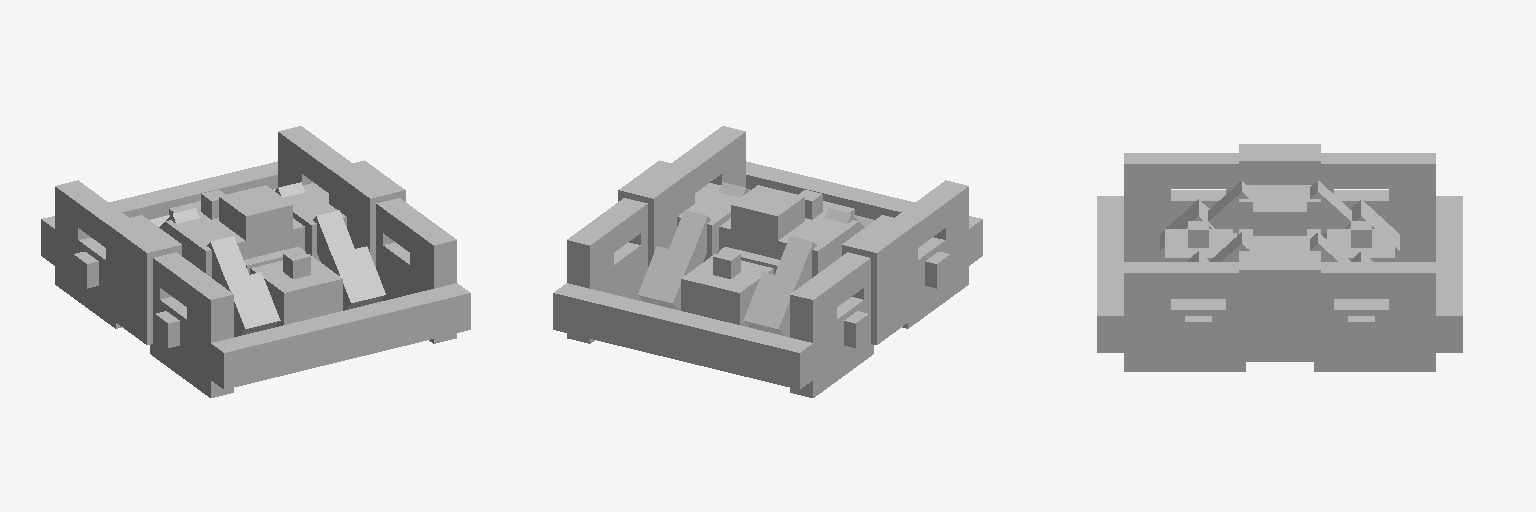
File: frame.obj
3 views of the same model, side by side, from view 1: azimuth 30°, elevation 25°; view 2: azimuth 150°, elevation 25°; view 3: azimuth 270°, elevation 25° (orthographic).
Parts seen in each view (by area): view 1: cube_19, cube_37, cube_28, cube_21, cube_1, cube_38, cube_34, cube_24, cube_7, cube_30, cube_25, cube_33 (+13 smaller); view 2: cube_28, cube_37, cube_19, cube_21, cube_8, cube_30, cube_33, cube_25, cube_7, cube_38, cube_24, cube_34 (+13 smaller); view 3: cube_21, cube_20, cube_41, cube_19, cube_28, cube_24, cube_25, cube_33, cube_34, cube_30, cube_38, cube_37 (+19 smaller).
Part boxes in pixels (x1,y1,x2,y2): cube_19: (211,283,470,389); cube_37: (106,215,181,344); cube_28: (41,161,277,265); cube_21: (330,160,405,266); cube_1: (250,254,342,327); cube_38: (150,295,233,397); cube_34: (153,252,233,324); cube_24: (376,198,456,269); cube_7: (219,185,292,240); cube_30: (55,223,121,328); cube_25: (278,126,351,193); cube_33: (55,180,128,247); cube_28: (553,283,812,389); cube_37: (842,215,917,344); cube_19: (746,161,982,265); cube_21: (618,160,693,266); cube_8: (681,254,773,327); cube_30: (790,295,873,397); cube_33: (790,252,870,324); cube_25: (567,198,647,269); cube_7: (731,185,804,240); cube_38: (902,223,968,328); cube_24: (672,126,745,193); cube_34: (895,180,968,247); cube_21: (1239,253,1320,361); cube_20: (1124,299,1245,371); cube_41: (1314,299,1435,371); cube_19: (1097,196,1123,352); cube_28: (1436,196,1462,352); cube_24: (1124,262,1238,297); cube_25: (1321,262,1435,297); cube_33: (1321,153,1435,188); cube_34: (1124,153,1238,188); cube_30: (1321,190,1435,261); cube_38: (1124,190,1238,261); cube_37: (1239,144,1320,184).
Bounding box in the file's own units: 2.88 × 1.12 × 3.38.